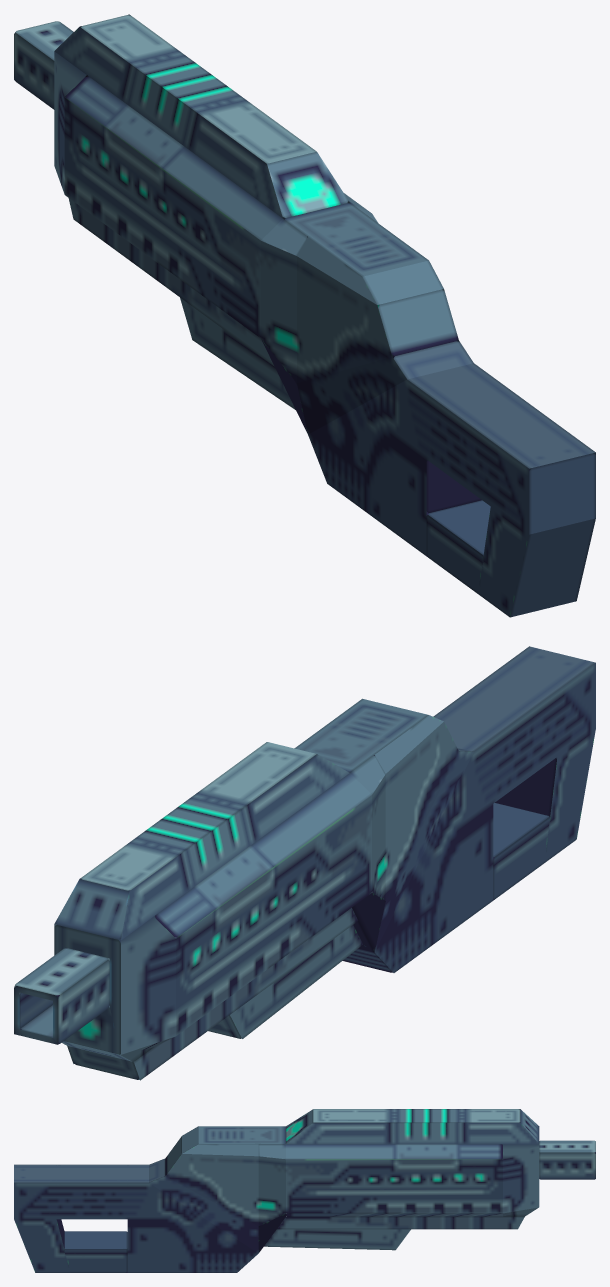
Rendered from rifle.fbx.
3 views of the same model, one above another, from view 1: azimuth 30°, elevation 25°; view 2: azimuth 150°, elevation 25°; view 3: azimuth 270°, elevation 25° (orthographic). The views are drawn at different scales.
Parts seen in each view (by area): view 1: cuboid; view 2: cuboid; view 3: cuboid.
Part boxes in pixels (left/top/right/bottom): cuboid: left=14, top=14, right=595, bottom=617; cuboid: left=14, top=646, right=595, bottom=1080; cuboid: left=14, top=1109, right=595, bottom=1272.
Bounding box in the file's own units: 62.5 × 144 × 512.
Materials: 1 (1 with a texture image).
